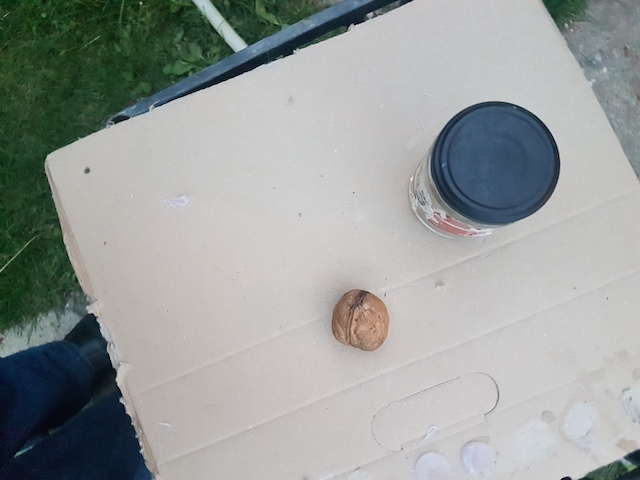nut: (330, 280, 390, 352)
recipient: (436, 97, 563, 229)
